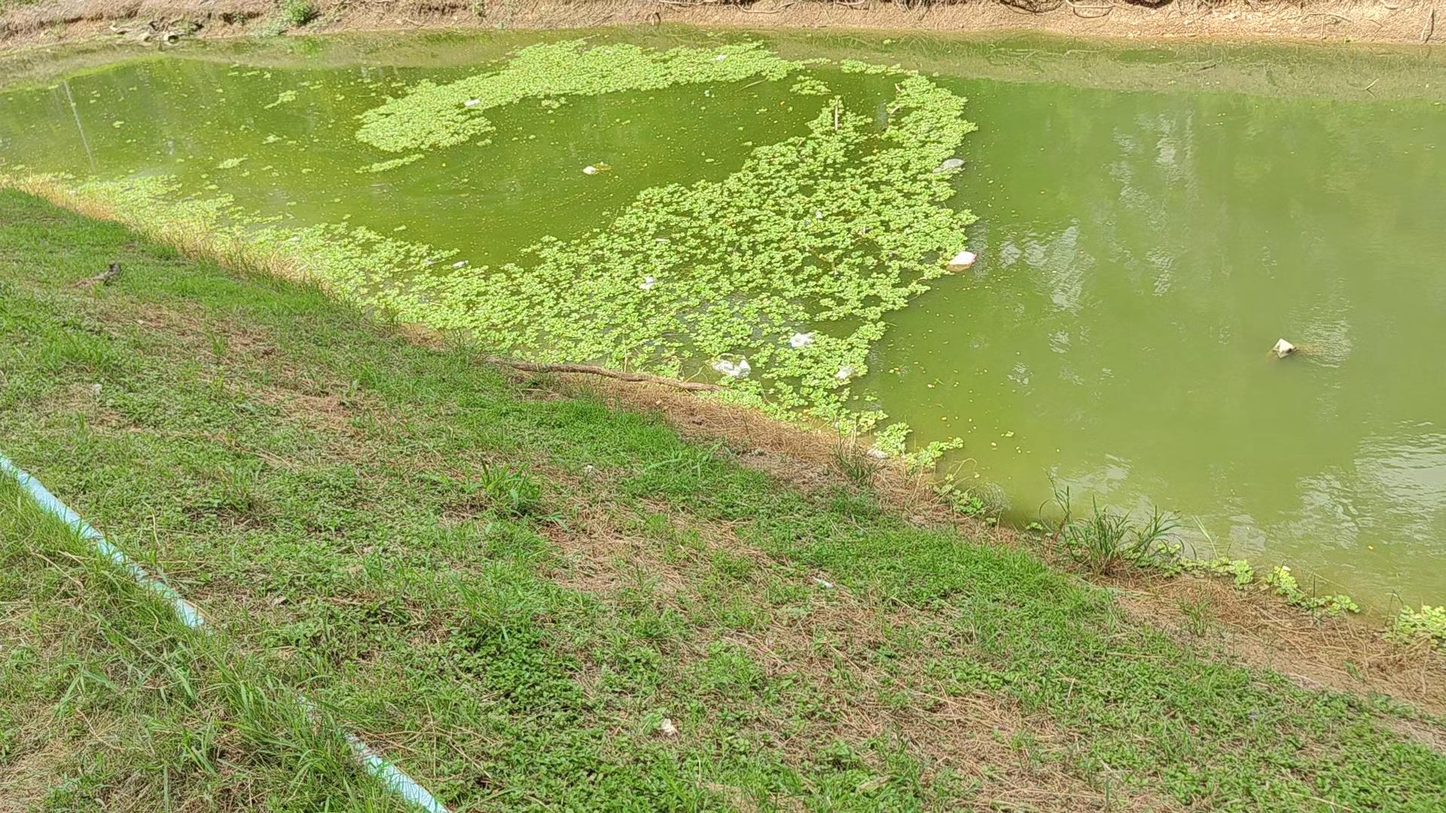trash: (712, 356, 750, 376), (1272, 338, 1297, 358), (948, 251, 976, 268), (934, 157, 964, 172), (790, 332, 813, 347), (835, 365, 855, 380), (639, 275, 655, 290), (582, 166, 599, 174), (464, 99, 480, 107), (453, 260, 468, 267), (715, 55, 728, 60)
